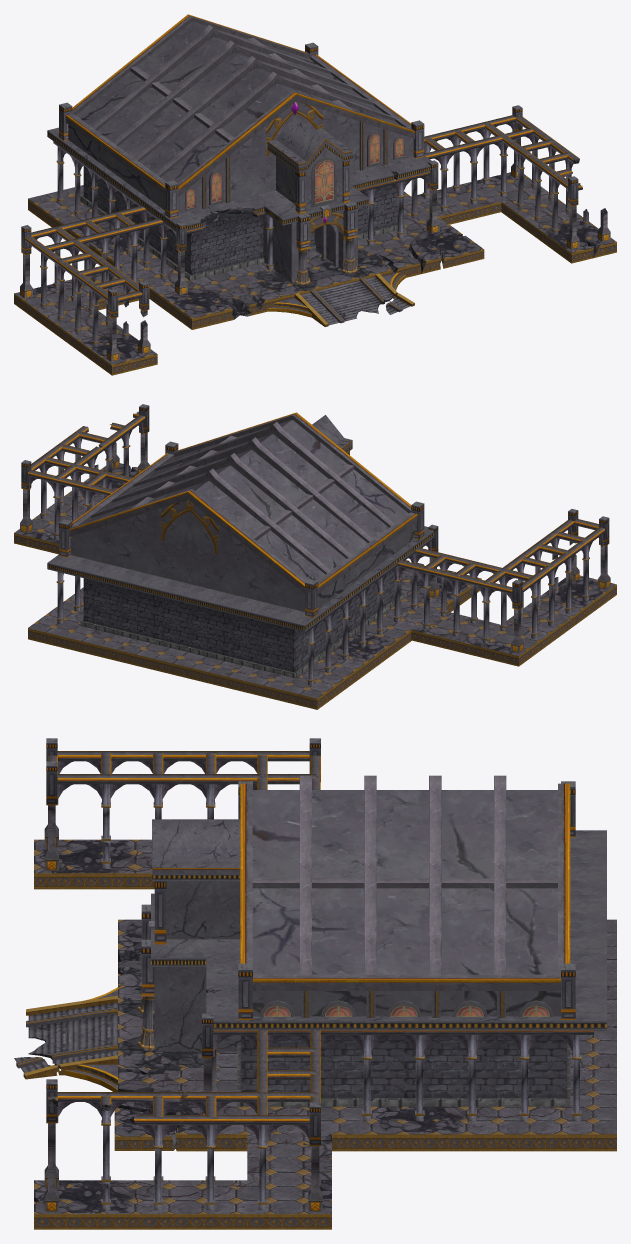
File: BOSS_House_01.FBX
3 views of the same model, one above another, from view 1: azimuth 30°, elevation 25°; view 2: azimuth 150°, elevation 25°; view 3: azimuth 270°, elevation 25° (orthographic). The views are drawn at different scales.
Visible parts, largest first — view 1: BOSS_House_01_01, BOSS_House_01_10, BOSS_House_01_03, BOSS_House_01_07, BOSS_House_01_06, BOSS_House_01_02, BOSS_House_01_09, BOSS_House_01_08; view 2: BOSS_House_01_01, BOSS_House_01_10, BOSS_House_01_02, BOSS_House_01_07, BOSS_House_01_03, BOSS_House_01_06, BOSS_House_01_09, BOSS_House_01_08; view 3: BOSS_House_01_01, BOSS_House_01_10, BOSS_House_01_03, BOSS_House_01_02, BOSS_House_01_06, BOSS_House_01_07, BOSS_House_01_08.
Part boxes in pixels (left/top/right/bottom): BOSS_House_01_01: left=47, top=14, right=431, bottom=282; BOSS_House_01_10: left=14, top=172, right=616, bottom=365; BOSS_House_01_03: left=14, top=199, right=616, bottom=375; BOSS_House_01_07: left=20, top=205, right=163, bottom=361; BOSS_House_01_06: left=422, top=105, right=610, bottom=249; BOSS_House_01_02: left=80, top=166, right=404, bottom=280; BOSS_House_01_09: left=53, top=141, right=273, bottom=295; BOSS_House_01_08: left=358, top=160, right=439, bottom=245; BOSS_House_01_01: left=47, top=412, right=433, bottom=631; BOSS_House_01_10: left=14, top=463, right=616, bottom=698; BOSS_House_01_02: left=80, top=570, right=404, bottom=678; BOSS_House_01_07: left=397, top=509, right=610, bottom=652; BOSS_House_01_03: left=14, top=465, right=616, bottom=709; BOSS_House_01_06: left=20, top=404, right=149, bottom=539; BOSS_House_01_09: left=305, top=524, right=439, bottom=685; BOSS_House_01_08: left=56, top=572, right=81, bottom=624; BOSS_House_01_01: left=148, top=775, right=606, bottom=1051; BOSS_House_01_10: left=34, top=839, right=616, bottom=1213; BOSS_House_01_03: left=14, top=873, right=616, bottom=1229; BOSS_House_01_02: left=237, top=1035, right=570, bottom=1106; BOSS_House_01_06: left=44, top=1030, right=322, bottom=1211; BOSS_House_01_07: left=44, top=738, right=320, bottom=870; BOSS_House_01_08: left=200, top=1013, right=593, bottom=1121.
Size of the model in its own units: 42.83 by 14.36 by 29.16.
